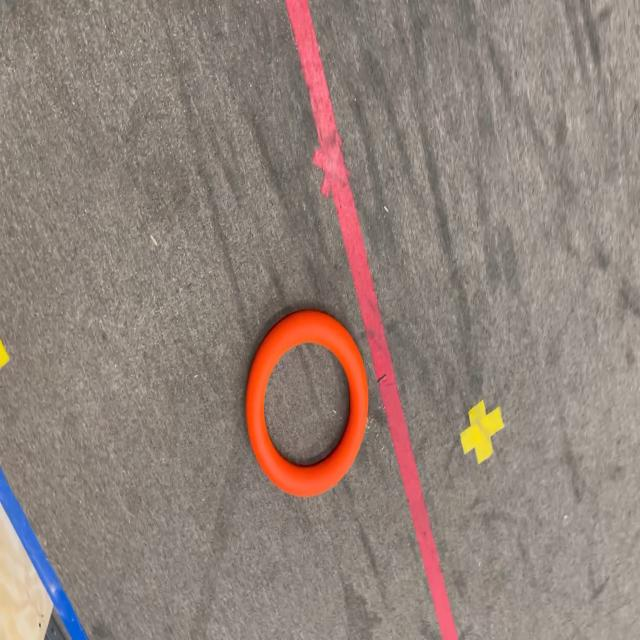note: (244, 310, 368, 496)
